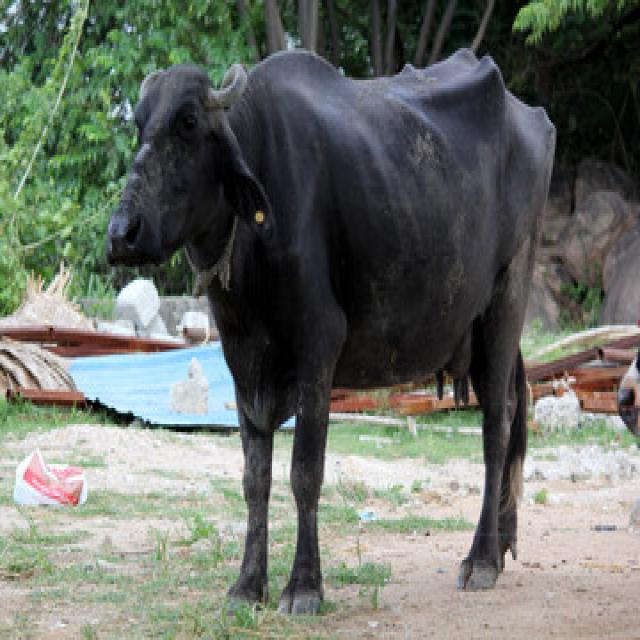Buffalo: (101, 40, 560, 616)
